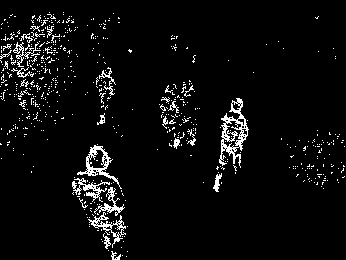person: (73, 144, 129, 260), (218, 96, 247, 191), (159, 83, 183, 149), (179, 79, 201, 150), (95, 67, 115, 124)
